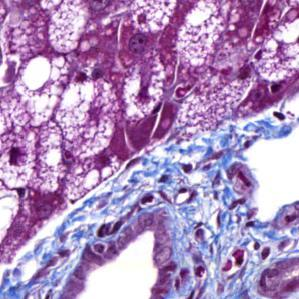ballooning: (53, 77, 118, 160), (3, 121, 65, 197), (119, 48, 169, 125), (249, 18, 296, 83)
